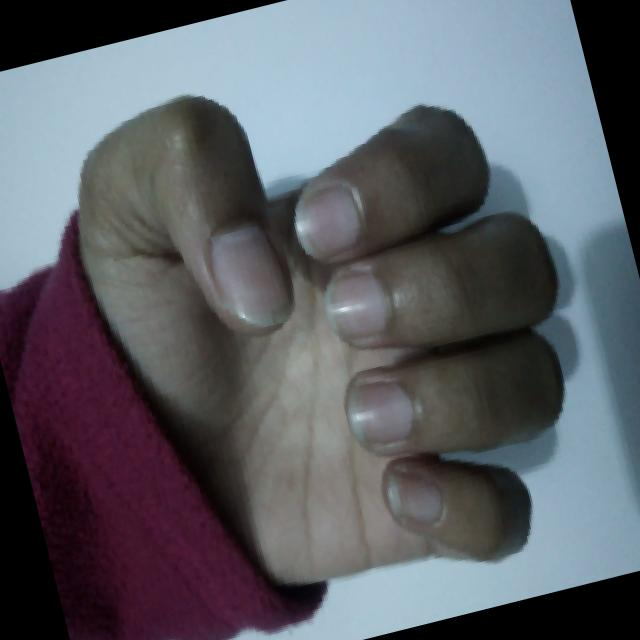Nail: (210, 223, 292, 326), (294, 182, 360, 259), (324, 269, 390, 337), (345, 380, 414, 442), (386, 468, 442, 522)
